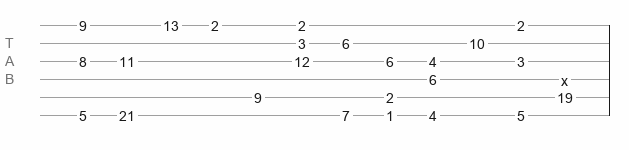1: (386, 108, 394, 118)
10: (469, 36, 485, 46)
11: (119, 54, 135, 64)
12: (294, 54, 310, 64)
13: (163, 18, 179, 28)
19: (557, 90, 573, 100)
2: (211, 18, 219, 28), (298, 18, 306, 28), (386, 90, 394, 100), (517, 18, 525, 28)
21: (119, 108, 135, 118)
3: (298, 36, 306, 46), (517, 54, 525, 64)
4: (429, 54, 437, 64), (429, 108, 437, 118)
5: (79, 108, 87, 118), (517, 108, 525, 118)
6: (342, 36, 350, 46), (386, 54, 394, 64), (429, 72, 437, 82)
7: (342, 108, 350, 118)
8: (79, 54, 87, 64)
9: (79, 18, 87, 28), (254, 90, 262, 100)
x: (561, 73, 568, 81)
